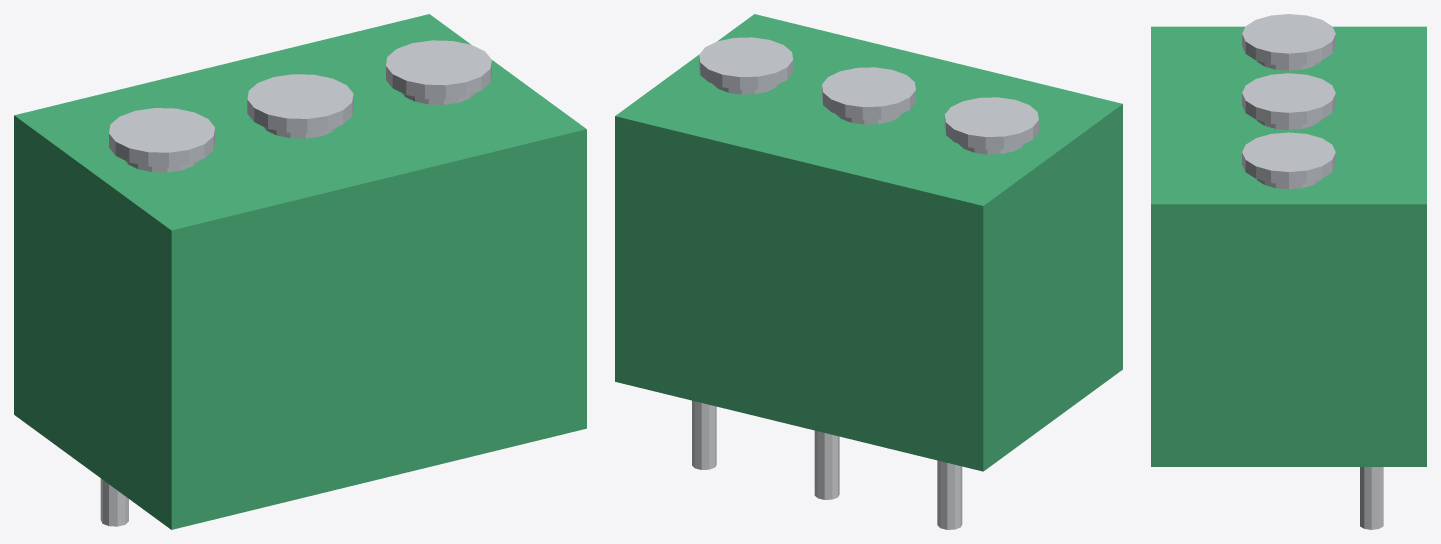
The model's file is AP_BORNE_KF128.glb.
3 renders of one model, left to right at view 1: azimuth 30°, elevation 25°; view 2: azimuth 150°, elevation 25°; view 3: azimuth 270°, elevation 25°, orthographic. The views are drawn at different scales.
Parts seen in each view (by area): view 1: cuerpo_pa66, tornillos, patas_cobre_estanado; view 2: cuerpo_pa66, tornillos, patas_cobre_estanado; view 3: cuerpo_pa66, tornillos, patas_cobre_estanado.
Part boxes in pixels (bbox=[...]): cuerpo_pa66: bbox=[14, 14, 586, 529]; tornillos: bbox=[109, 40, 491, 172]; patas_cobre_estanado: bbox=[100, 478, 128, 526]; cuerpo_pa66: bbox=[615, 14, 1122, 471]; tornillos: bbox=[699, 37, 1038, 154]; patas_cobre_estanado: bbox=[692, 400, 962, 529]; cuerpo_pa66: bbox=[1151, 26, 1426, 466]; tornillos: bbox=[1242, 14, 1335, 189]; patas_cobre_estanado: bbox=[1360, 467, 1383, 529].
Bounding box in the file's own units: 0.0152 × 0.0149 × 0.01.
